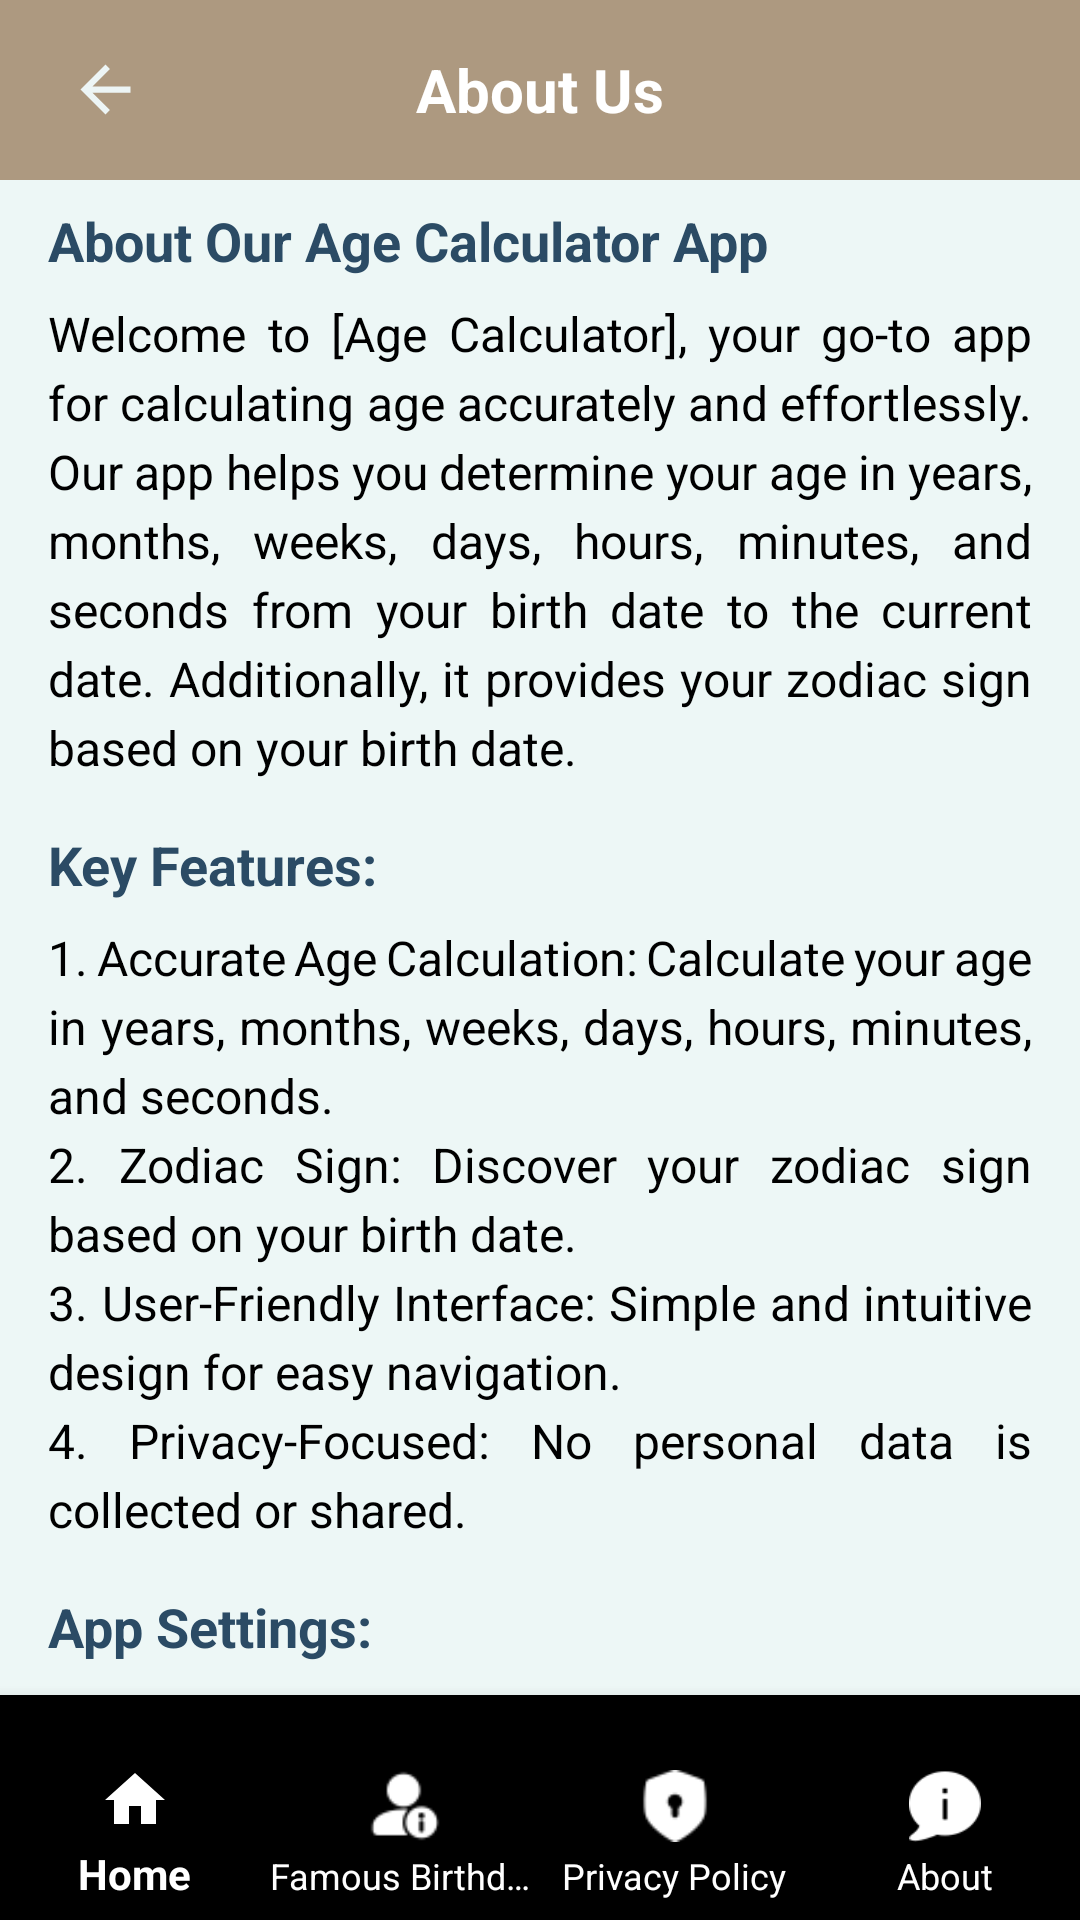

Screen size 1080x1920. Icon name, then its box in pixels as (x1, y1, x2, y2):
arrow back: (80, 64, 131, 115)
